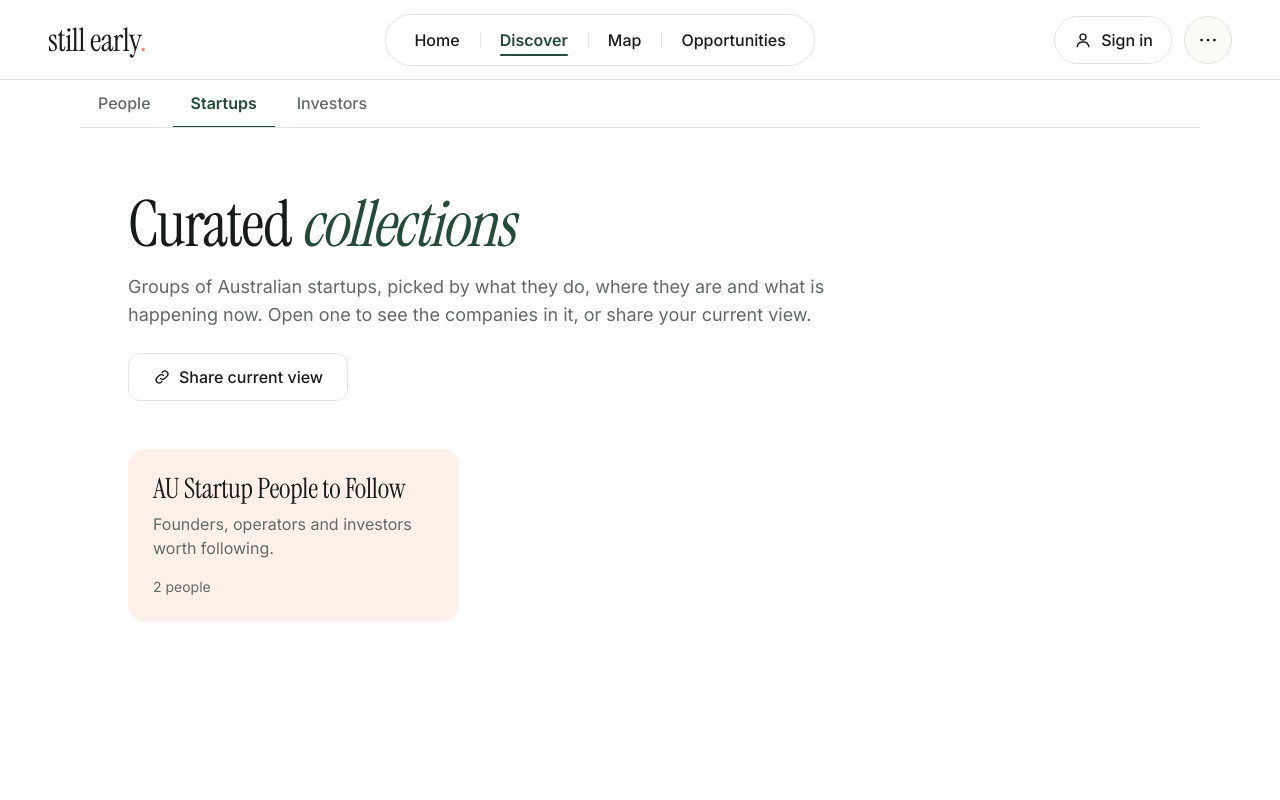
Scenario: CuratedLists people-list rendering (populated) › expands to show name, role, company, why and an external link when given
Click the heading "AU Startup People to Follow" at {"x": 293, "y": 489}, box [153,474,434,504]
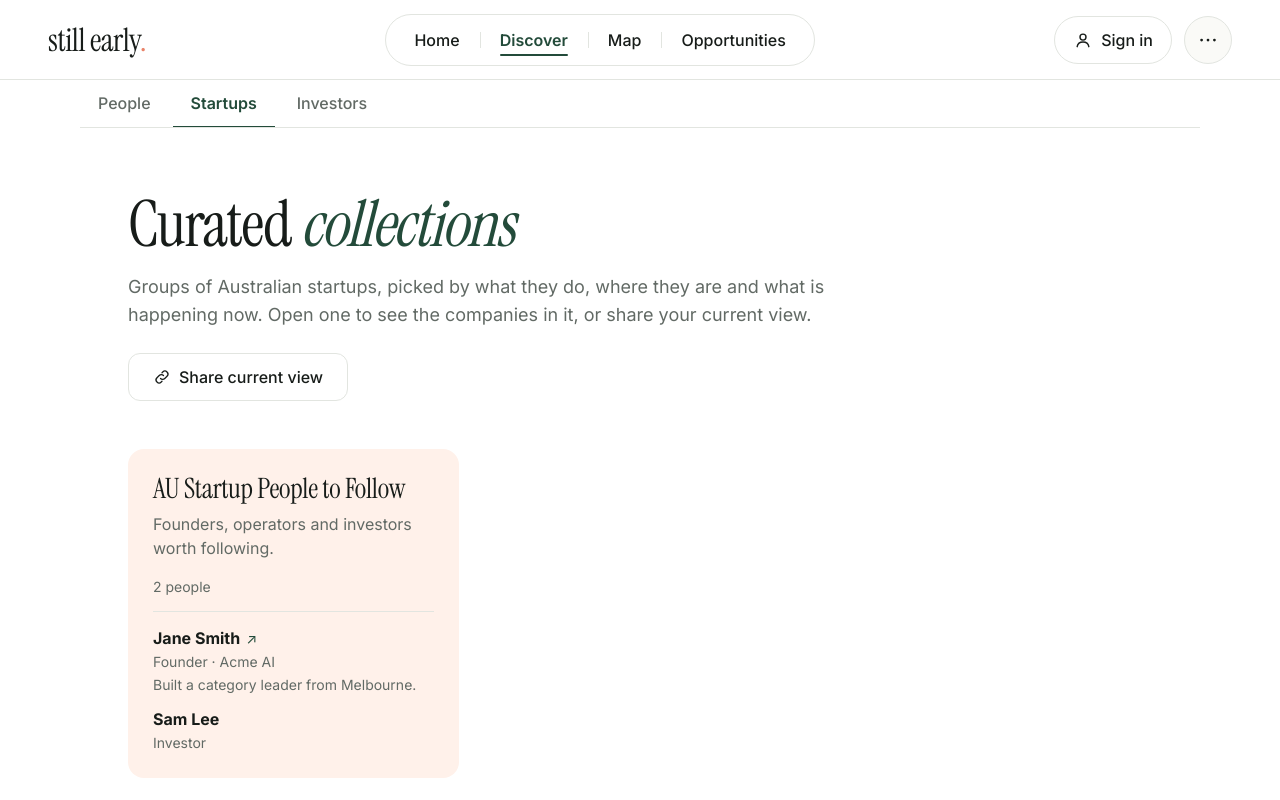
Result: the text "Jane Smith" is shown at [153,626,240,650]
Result: the text "Founder · Acme AI" is shown at [153,653,275,670]
Result: the text "Built a category leader from Melbourne." is shown at [153,675,434,695]
